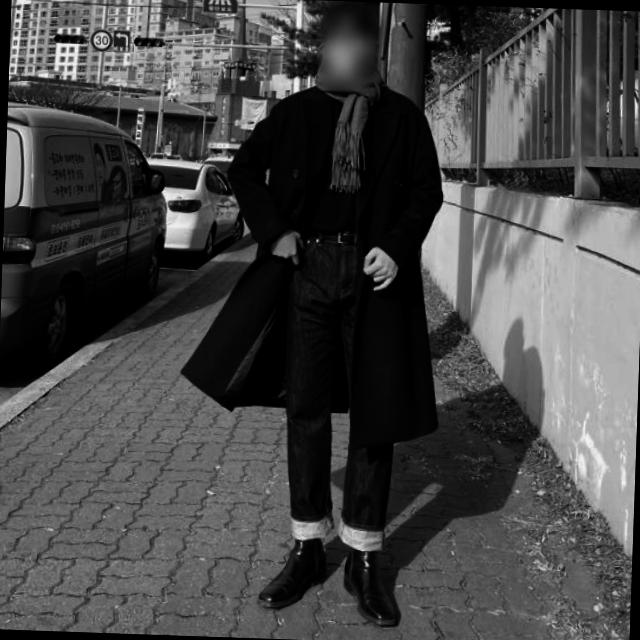coat: (182, 76, 450, 449)
denimpants: (282, 227, 398, 554)
